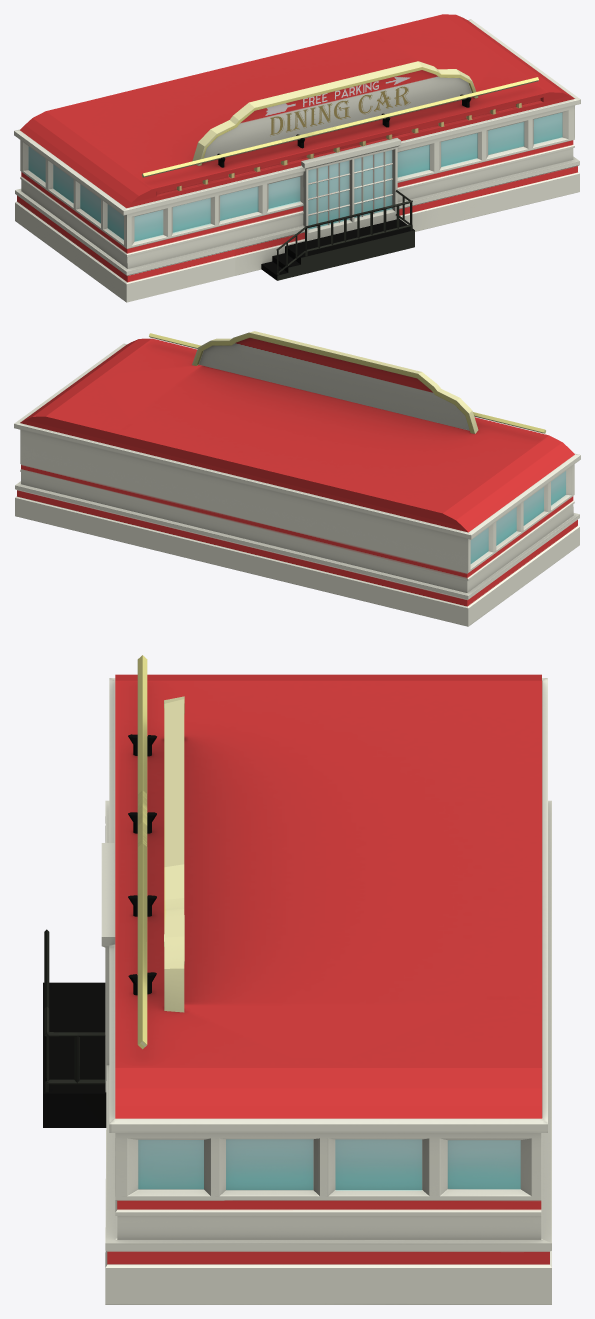
Rendered from a7d4bfa8-7ada-4646-a056-0c30116e7f15.glb.
3 renders of one model, top to bottom at view 1: azimuth 30°, elevation 25°; view 2: azimuth 150°, elevation 25°; view 3: azimuth 270°, elevation 25°, orthographic. The views are drawn at different scales.
Visible parts, largest first — view 1: Diner_mesh; view 2: Diner_mesh; view 3: Diner_mesh.
Boxes of the visible parts, x1=… form: Diner_mesh: x1=14, y1=14, x2=580, y2=302; Diner_mesh: x1=14, y1=331, x2=580, y2=626; Diner_mesh: x1=43, y1=655, x2=551, y2=1304.
Size of the model in its own units: 19.98 by 6.3 by 9.63.
Materials: 1 (1 with a texture image).
